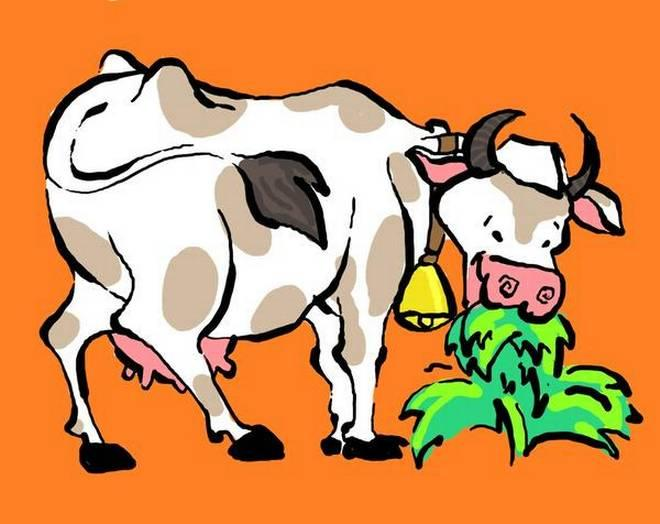cow: (40, 50, 623, 474)
